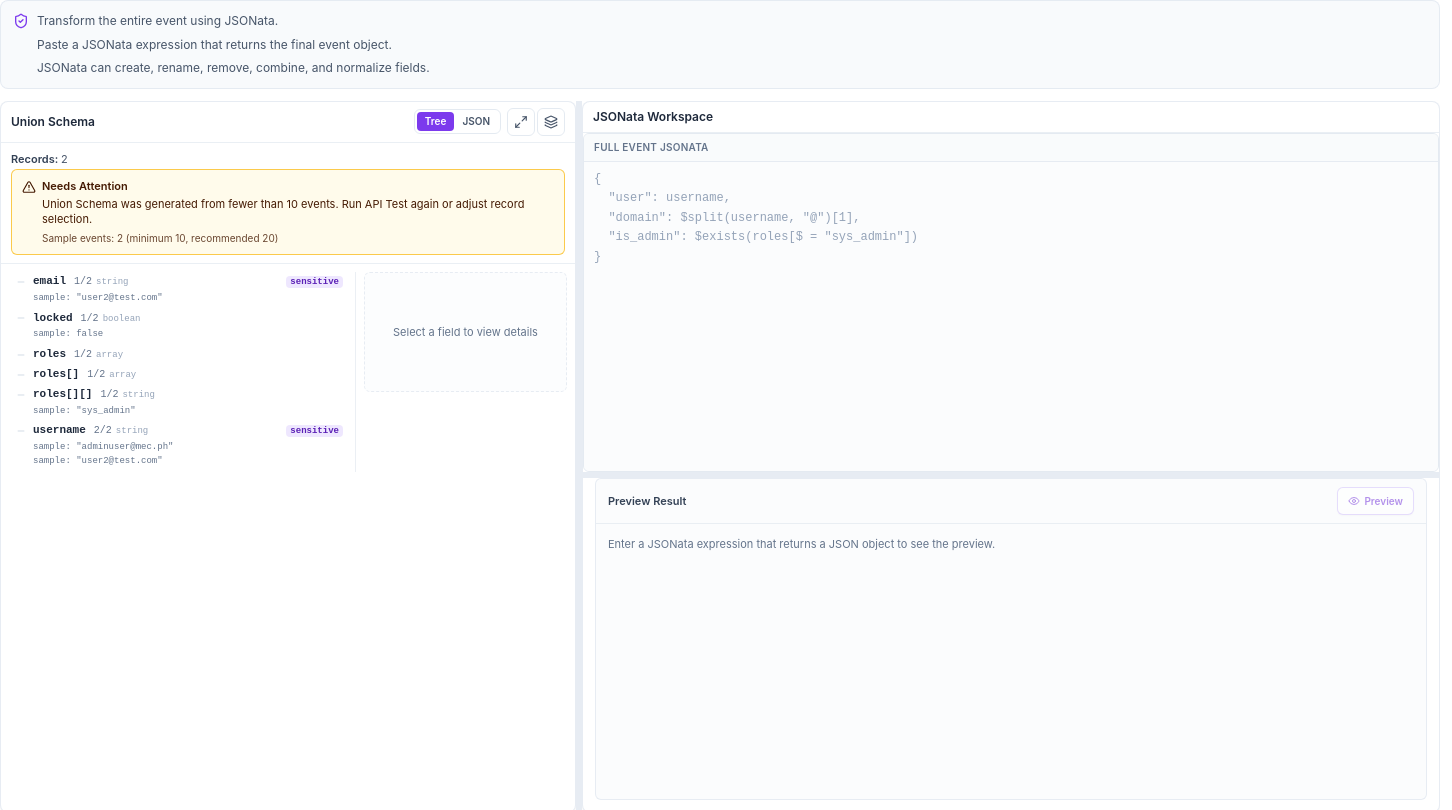
WizardFullEventTransformWorkspace union schema tree › shows field detail panel when a union field is selected
Step 1. Click the text "username" → (59, 430), box [33,424,86,436]
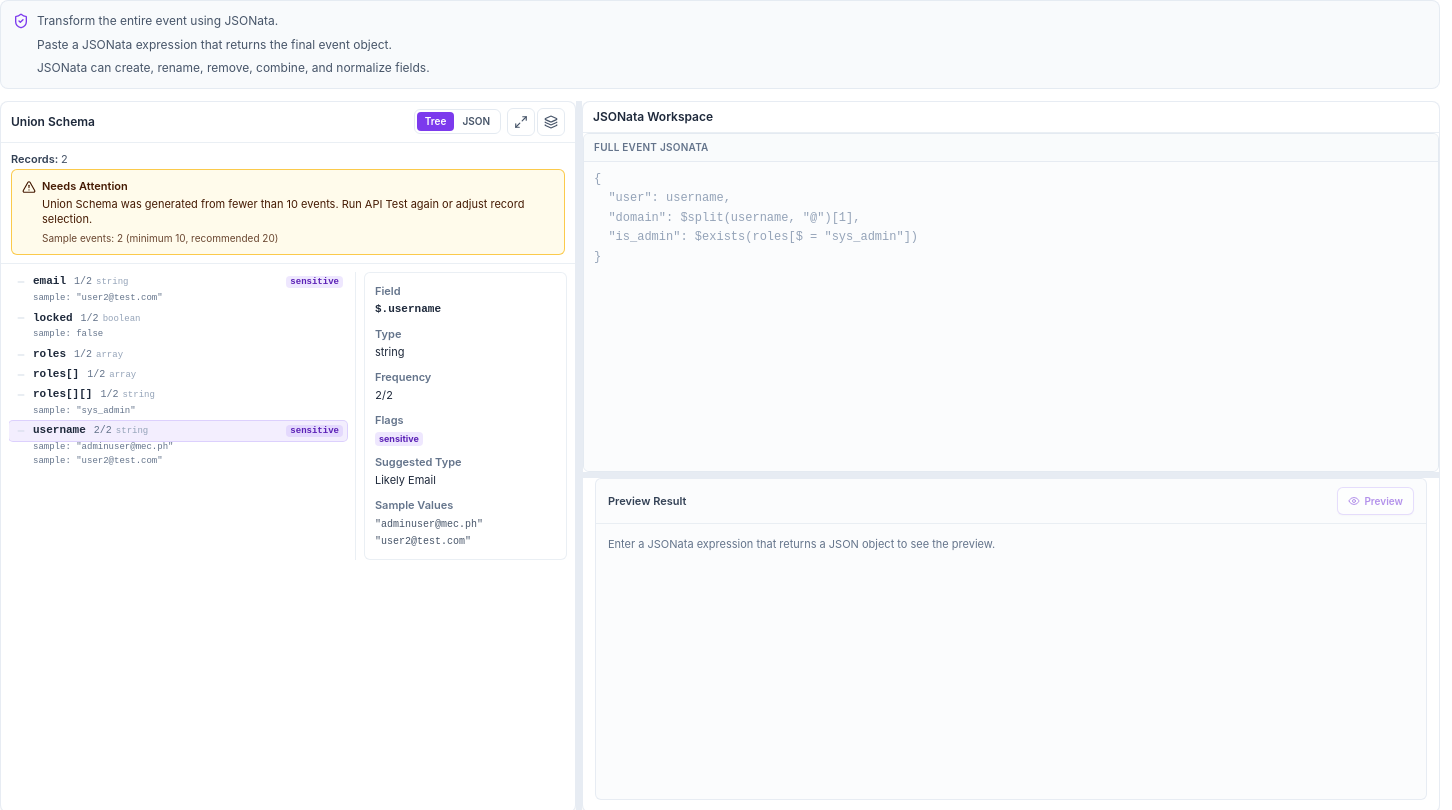
Expected: the element with test id "union-field-detail-panel" is shown, [364,272,567,560]
Expected: the text with test id "union-field-detail-frequency" is shown, [375,388,393,402]
Expected: the text "Likely Email" is shown, [375,473,436,487]
